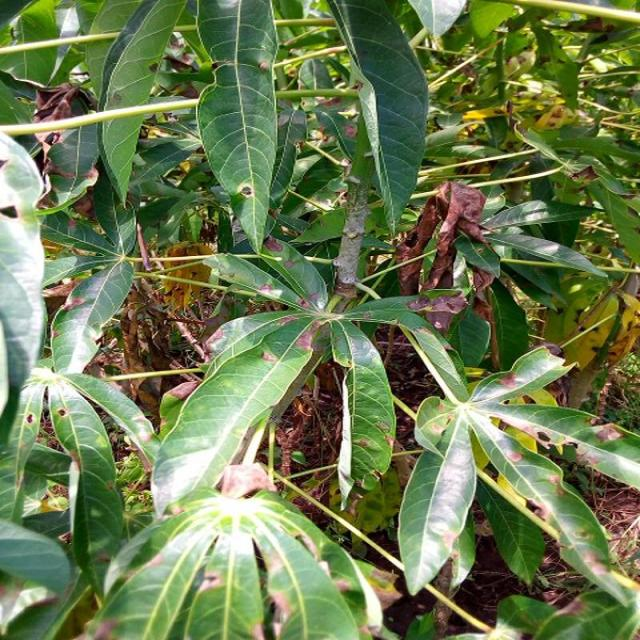cassava leaf: (0, 1, 638, 638), (149, 308, 316, 518), (326, 0, 428, 235), (194, 0, 278, 254)
